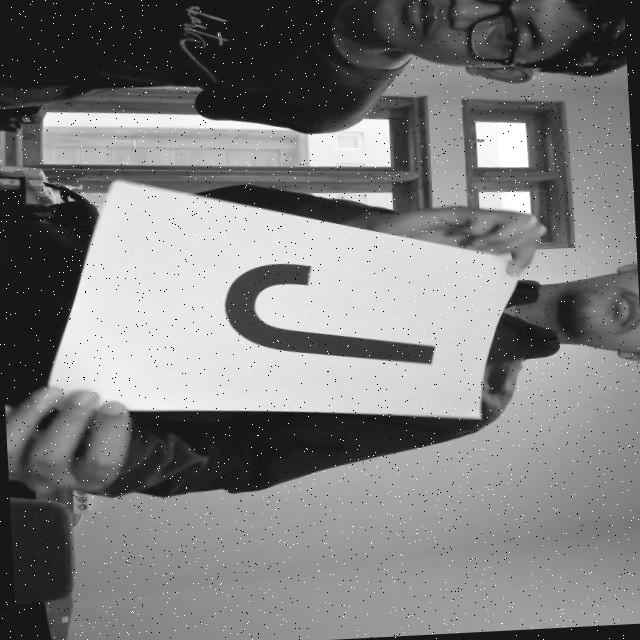j: (212, 244, 449, 386)
